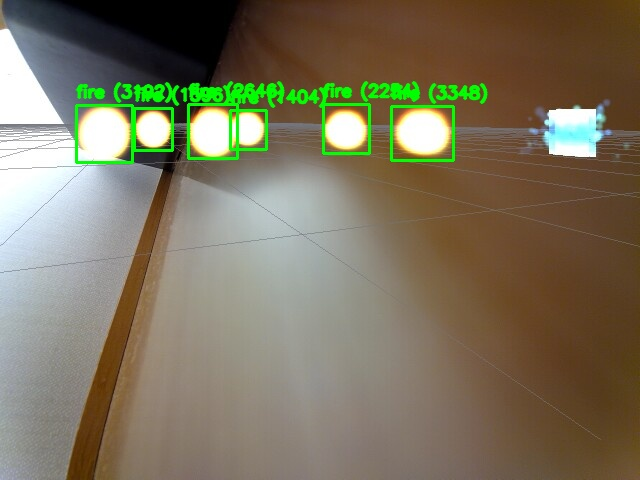fire: (391, 106, 453, 160), (76, 105, 132, 162), (188, 104, 237, 158), (323, 104, 369, 153), (134, 108, 172, 150), (230, 110, 266, 149)
